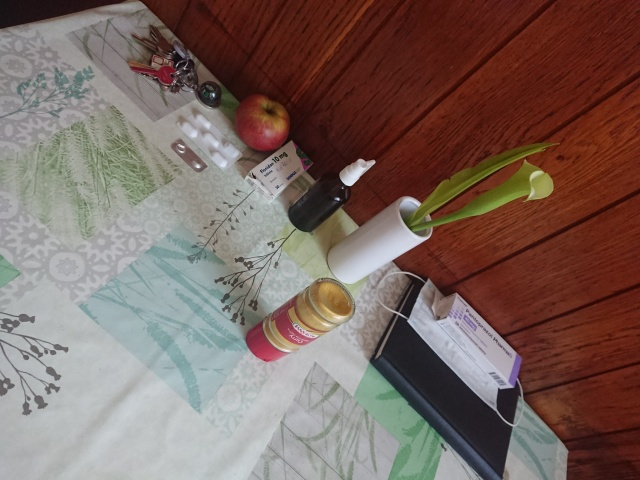Kotanyi Curry Spices Mix 70g: (243, 275, 359, 365)
